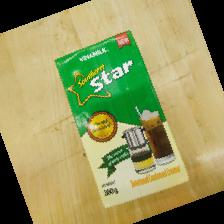NSPN_Hop: (51, 30, 189, 209)
